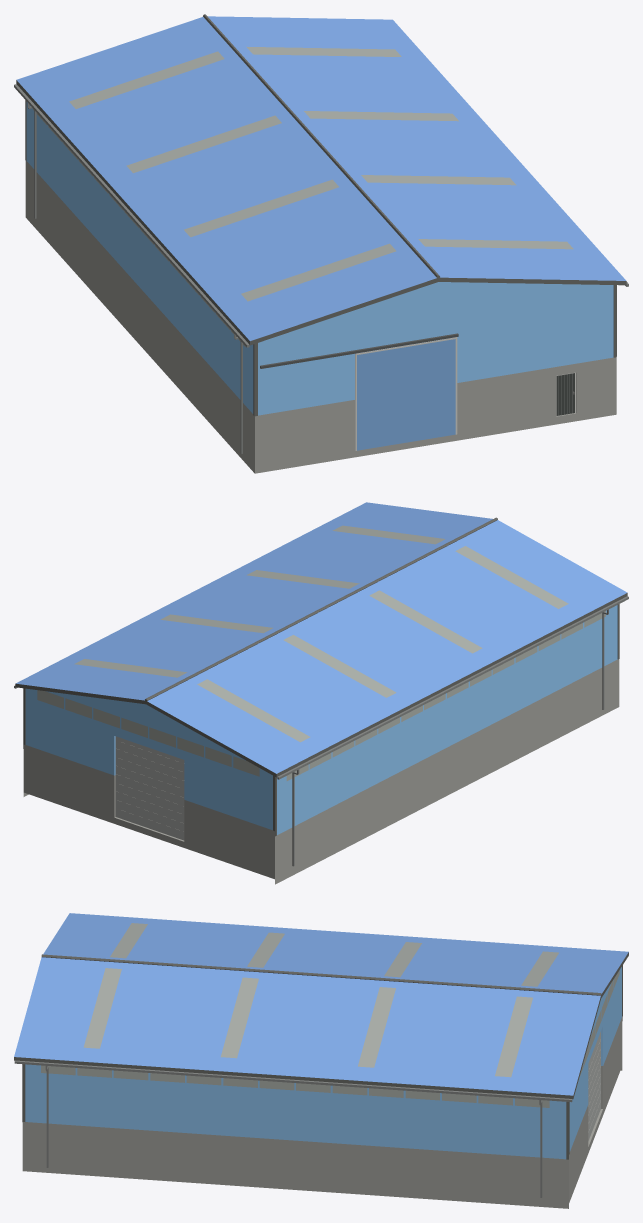
The model's file is fb_store_1399.glb.
The picture shows the model from 3 angles, top to bottom: view 1: azimuth 30°, elevation 25°; view 2: azimuth 150°, elevation 25°; view 3: azimuth 270°, elevation 25°; orthographic projection. The views are drawn at different scales.
Visible parts, largest first — view 1: vh_roof, vh_sheet, vh_plinth, vh_light, vh_door, vh_trim, vh_frames_small, vh_metal_small; view 2: vh_roof, vh_sheet, vh_plinth, vh_light, vh_trim, vh_frames_small; view 3: vh_roof, vh_sheet, vh_plinth, vh_light, vh_trim, vh_frames_small.
Boxes of the visible parts, x1,y1,x2,y2 form: vh_roof: [16, 16, 626, 340]; vh_sheet: [26, 102, 613, 415]; vh_plinth: [25, 161, 616, 473]; vh_light: [33, 46, 573, 346]; vh_door: [356, 337, 455, 450]; vh_trim: [16, 14, 626, 450]; vh_frames_small: [14, 84, 628, 453]; vh_metal_small: [260, 333, 574, 394]; vh_roof: [16, 502, 627, 773]; vh_sheet: [25, 605, 617, 834]; vh_plinth: [23, 659, 619, 884]; vh_light: [37, 525, 605, 780]; vh_trim: [15, 517, 627, 840]; vh_frames_small: [14, 596, 628, 866]; vh_roof: [14, 913, 628, 1095]; vh_sheet: [25, 967, 621, 1159]; vh_plinth: [22, 1017, 622, 1208]; vh_light: [41, 923, 619, 1107]; vh_trim: [14, 952, 628, 1159]; vh_frames_small: [14, 1039, 600, 1197].
Size of the model in its own units: 23.65 by 8.79 by 33.29.
